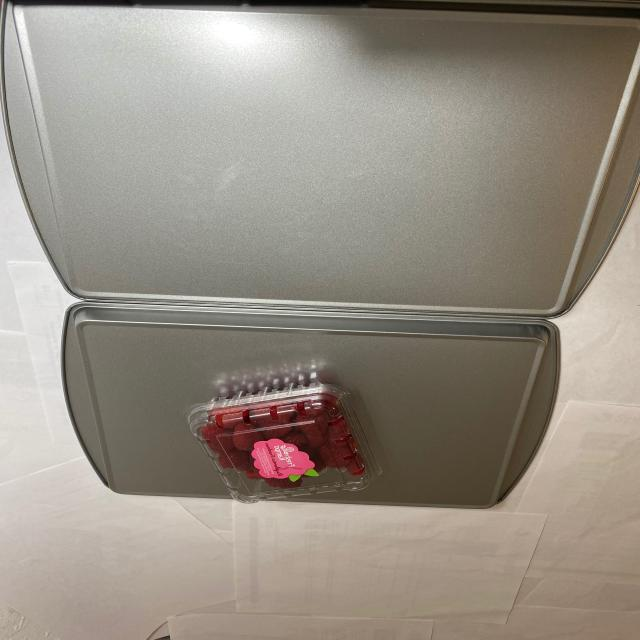raspberries: (199, 381, 361, 487)
